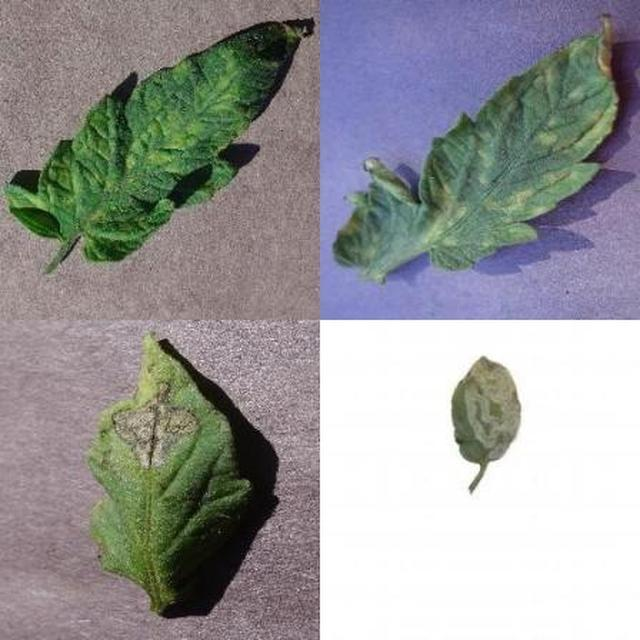Leaf Mold: (102, 158, 640, 640)
